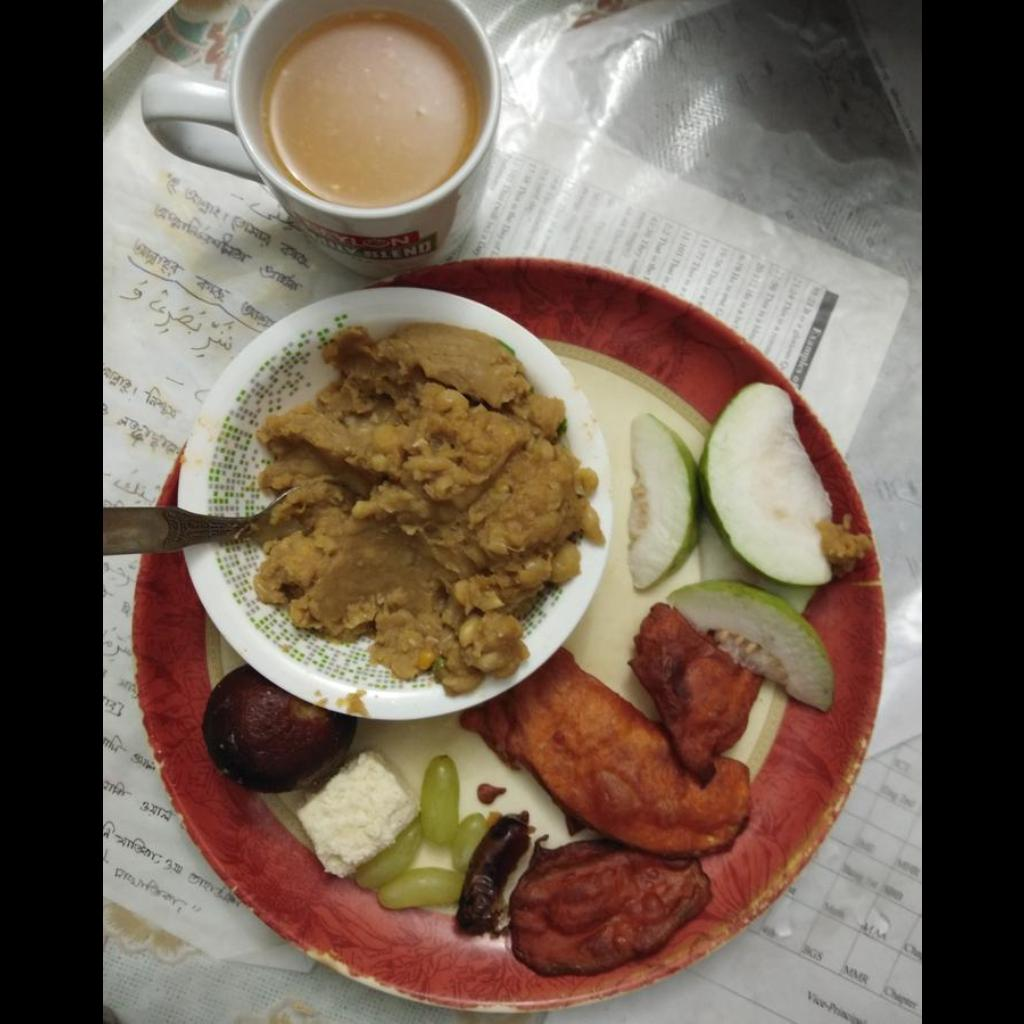beguni: (470, 609, 754, 970)
daal: (252, 325, 600, 696)
dates: (455, 814, 529, 934)
grapes: (355, 755, 487, 909)
guava: (626, 380, 834, 706)
juice: (275, 4, 476, 200)
sweets: (201, 666, 356, 793), (295, 752, 417, 877)
